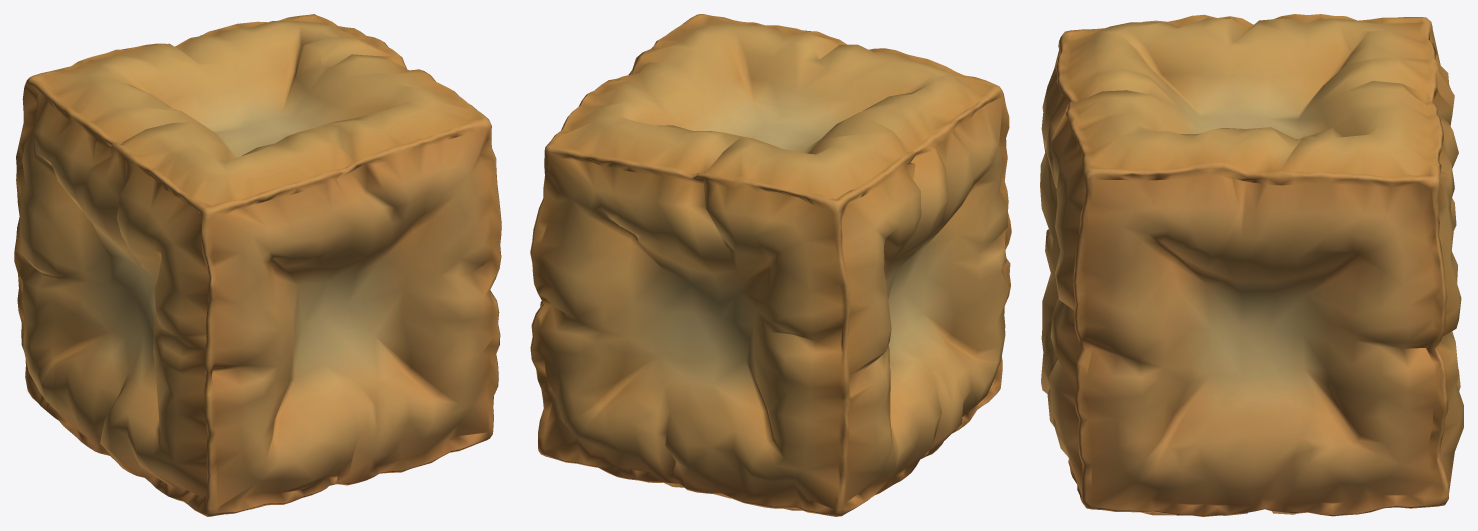
3 renders of one model, left to right at view 1: azimuth 30°, elevation 25°; view 2: azimuth 150°, elevation 25°; view 3: azimuth 270°, elevation 25°, orthographic. The views are drawn at different scales.
Parts seen in each view (by area): view 1: Fried Tofu Puff; view 2: Fried Tofu Puff; view 3: Fried Tofu Puff.
Part boxes in pixels (x1=…): Fried Tofu Puff: x1=14, y1=14, x2=501, y2=516; Fried Tofu Puff: x1=530, y1=14, x2=1011, y2=516; Fried Tofu Puff: x1=1040, y1=14, x2=1463, y2=516.
Bounding box in the file's own units: 0.9902 × 0.9902 × 0.998.
Materials: 1 (1 with a texture image).
